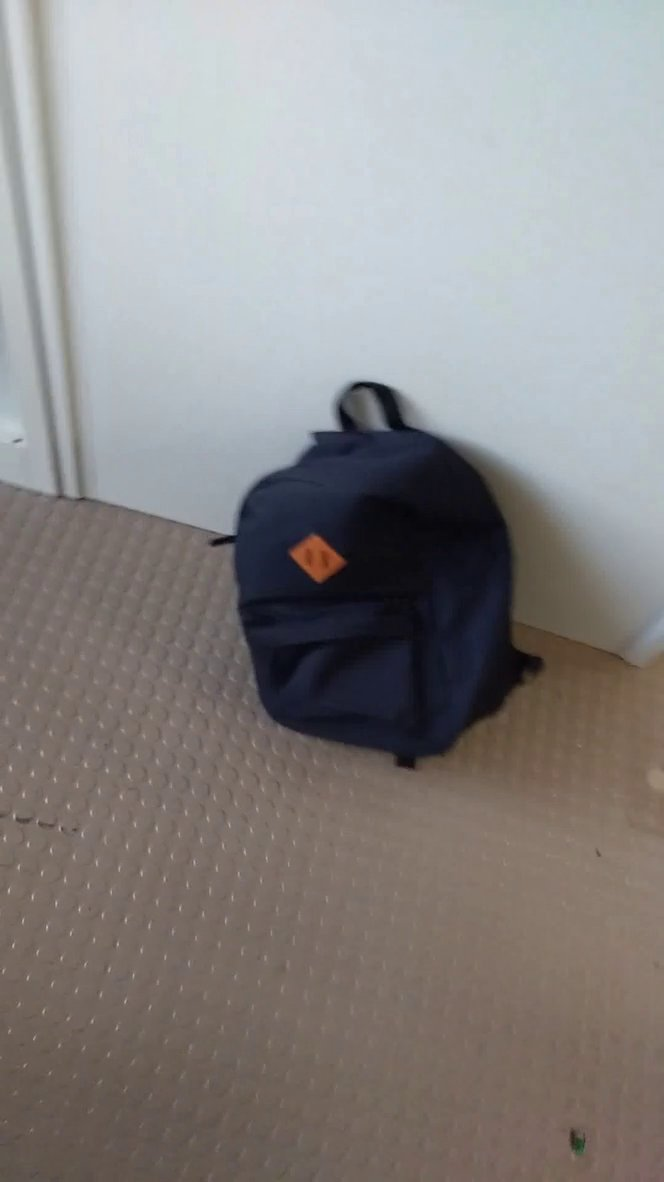bag: (198, 373, 554, 785)
